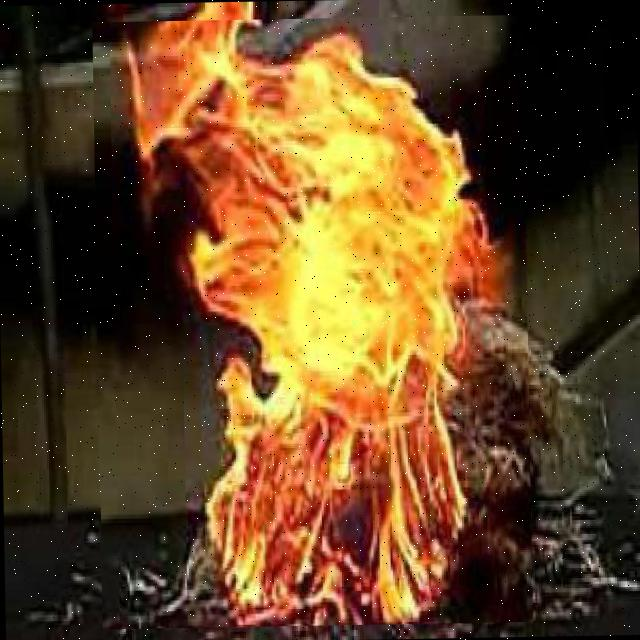fire: (91, 14, 532, 628)
